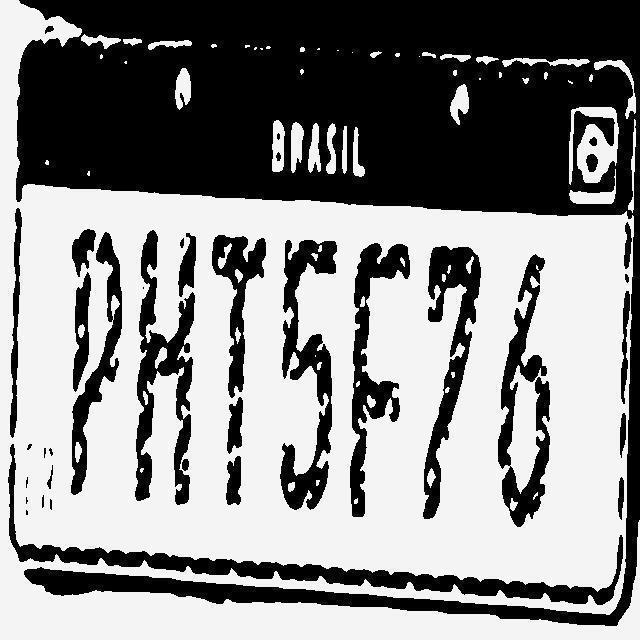5: (278, 230, 342, 530)
6: (496, 238, 562, 532)
7: (413, 231, 483, 524)
f: (348, 242, 413, 514)
h: (132, 228, 202, 507)
p: (64, 225, 124, 502)
t: (204, 226, 274, 522)
